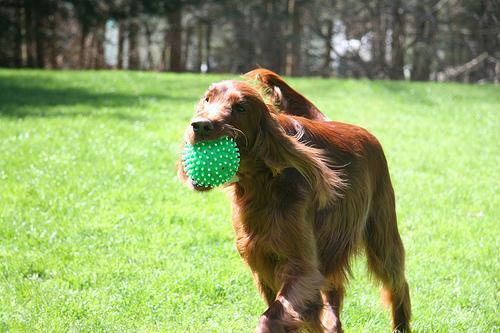Irish_setter: (171, 63, 415, 332)
